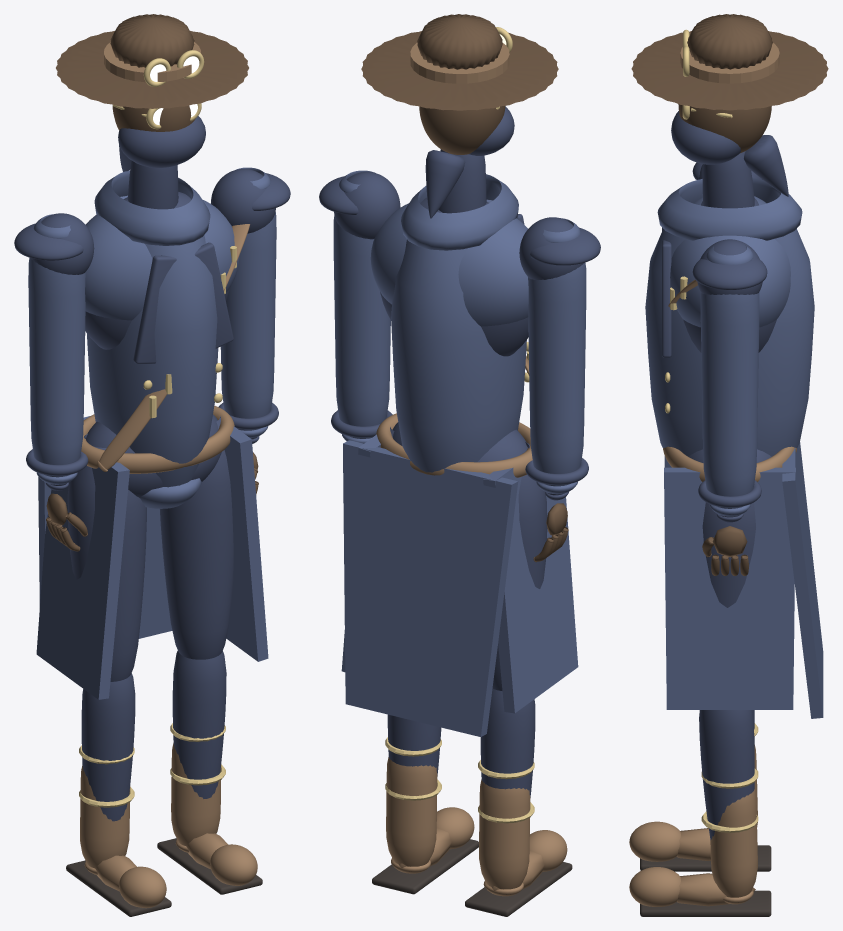
The model's file is Tirador.fbx.
3 renders of one model, left to right at view 1: azimuth 30°, elevation 25°; view 2: azimuth 150°, elevation 25°; view 3: azimuth 270°, elevation 25°, orthographic.
Parts seen in each view (by area): view 1: Abrigo, Faldones del abrigo, Manga_D, Femur_I, Manga_I, Ala del sombrero, Femur_D, Tibia_I, Tibia_D, Bota_D, Bota_I, Copa del sombrero (+21 smaller); view 2: Faldones del abrigo, Abrigo, Manga_D, Manga_I, Ala del sombrero, Bota_I, Bota_D, Tibia_D, Copa del sombrero, Pasamontanas, Deltoides_I, Femur_D (+17 smaller); view 3: Faldones del abrigo, Abrigo, Manga_I, Ala del sombrero, Bota_I, Tibia_I, Copa del sombrero, Panuelo, Bota_D, Cuello, Pasamontanas, Femur_I (+11 smaller).
Part boxes in pixels (box(x1,y1,x2,y2)): Abrigo: box(85, 170, 239, 508); Faldones del abrigo: box(36, 416, 268, 699); Manga_D: box(28, 214, 85, 484); Femur_I: box(160, 416, 233, 659); Manga_I: box(220, 167, 276, 438); Ala del sombrero: box(56, 31, 248, 108); Femur_D: box(67, 434, 146, 681); Tibia_I: box(172, 650, 226, 798); Tibia_D: box(81, 673, 135, 821); Bota_D: box(80, 765, 166, 908); Bota_I: box(171, 743, 257, 885); Copa del sombrero: box(110, 14, 194, 67); Faldones del abrigo: box(341, 434, 578, 736); Abrigo: box(370, 174, 528, 472); Manga_D: box(528, 218, 586, 494); Manga_I: box(333, 170, 390, 443); Ala del sombrero: box(361, 31, 558, 110); Bota_I: box(386, 757, 474, 873); Bota_D: box(479, 779, 567, 896); Tibia_D: box(480, 688, 535, 797); Copa del sombrero: box(417, 14, 502, 69); Pasamontanas: box(419, 105, 505, 154); Deltoides_I: box(334, 172, 400, 239); Femur_D: box(492, 441, 547, 690); Faldones del abrigo: box(664, 442, 823, 718); Abrigo: box(645, 178, 814, 456); Manga_I: box(700, 246, 759, 516); Ala del sombrero: box(631, 31, 828, 110); Bota_I: box(629, 789, 757, 906); Tibia_I: box(699, 710, 754, 840); Copa del sombrero: box(687, 14, 772, 69); Panuelo: box(671, 111, 788, 196); Bota_D: box(629, 745, 757, 861); Cuello: box(702, 151, 754, 208); Pasamontanas: box(678, 104, 771, 153); Femur_I: box(702, 502, 755, 607).
Size of the model in its own units: 0.6438 by 1.96 by 0.4096.
